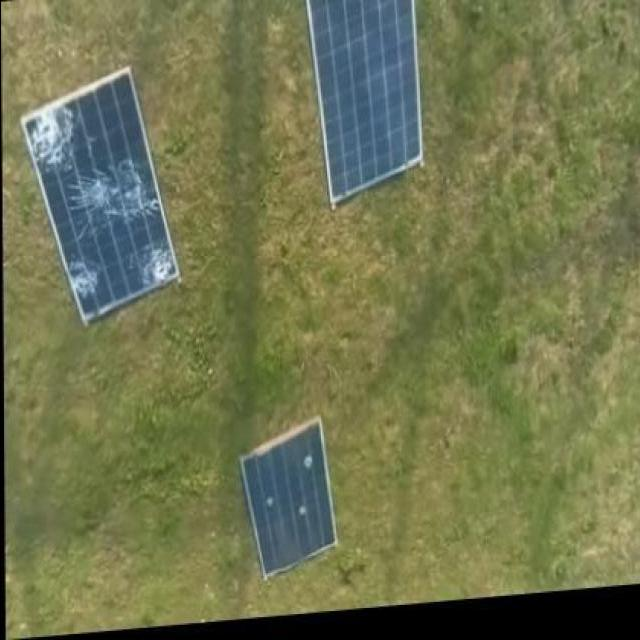cracked: (20, 67, 186, 329)
soiled: (236, 416, 340, 585)
